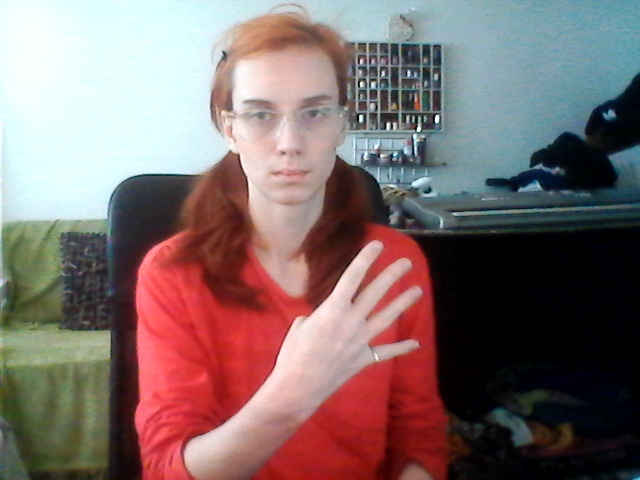styri: (275, 237, 429, 389)
